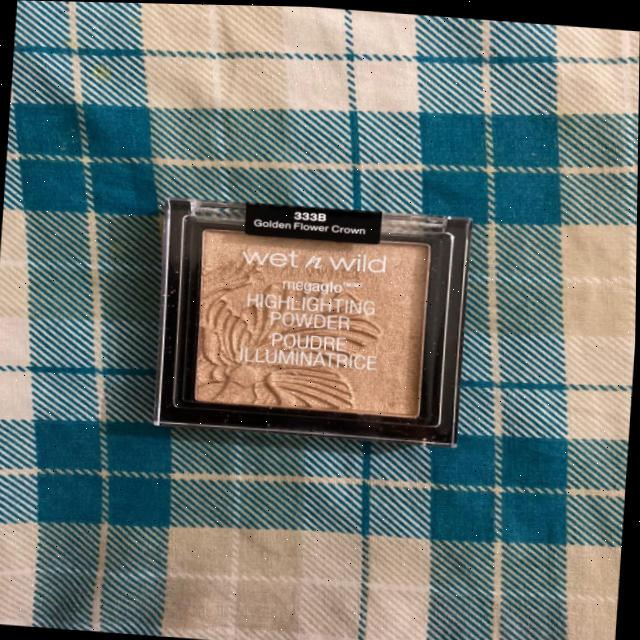powder: (126, 183, 500, 461)
